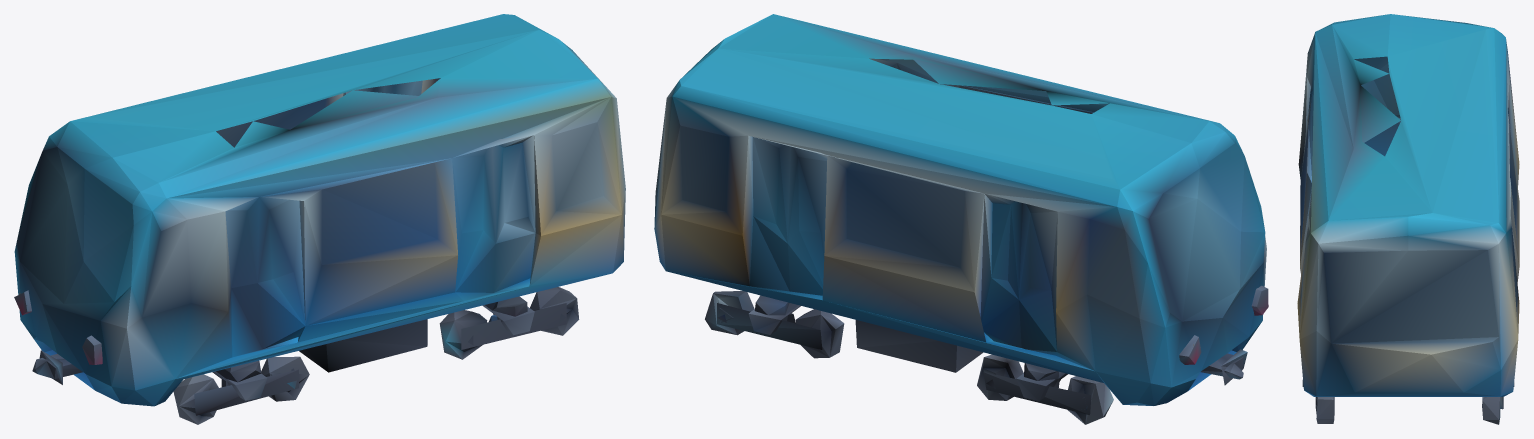
Rendered from cab_lo.glb.
3 views of the same model, side by side, from view 1: azimuth 30°, elevation 25°; view 2: azimuth 150°, elevation 25°; view 3: azimuth 270°, elevation 25° (orthographic). The views are drawn at different scales.
Visible parts, largest first — view 1: geometry_0; view 2: geometry_0; view 3: geometry_0.
Boxes of the visible parts, left/top/right/bottom form: geometry_0: left=14, top=14, right=625, bottom=424; geometry_0: left=654, top=14, right=1268, bottom=424; geometry_0: left=1297, top=14, right=1519, bottom=424.
Size of the model in its own units: 0.9561 by 0.4199 by 0.3667.
